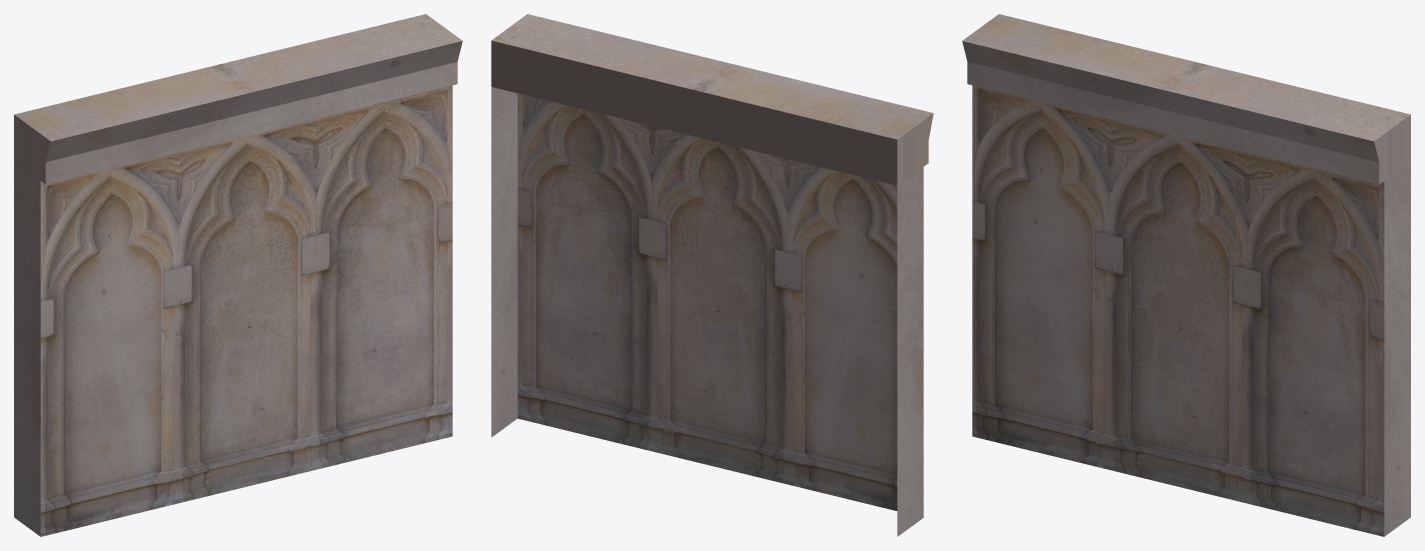
Rendered from WallFancy2.fbx.
The picture shows the model from 3 angles, left to right: view 1: azimuth 30°, elevation 25°; view 2: azimuth 150°, elevation 25°; view 3: azimuth 330°, elevation 25°; orthographic projection.
Visible parts, largest first — view 1: Cube.002; view 2: Cube.002; view 3: Cube.002.
Boxes of the visible parts, x1,y1,x2,y2 form: Cube.002: (14,14,462,536); Cube.002: (491,14,933,536); Cube.002: (962,14,1410,536).
Bounding box in the file's own units: 243 × 227 × 37.57.
